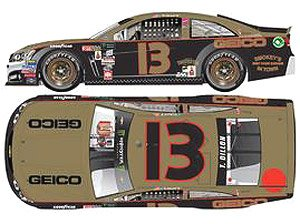geico: (26, 117, 88, 131), (27, 172, 82, 185)
